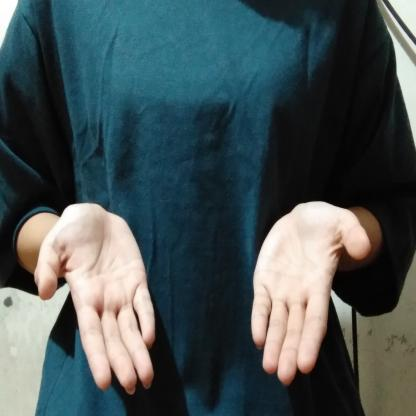what: (27, 186, 375, 408)
